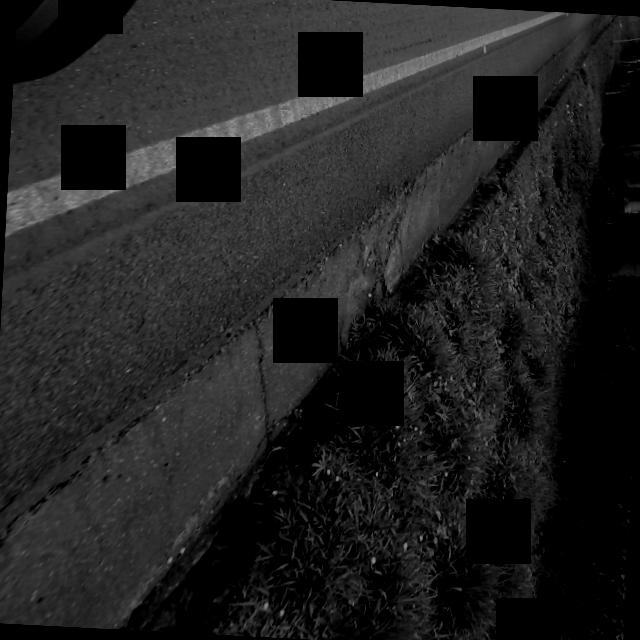DITCH: (0, 0, 617, 640), (0, 0, 602, 640), (0, 32, 628, 640)
